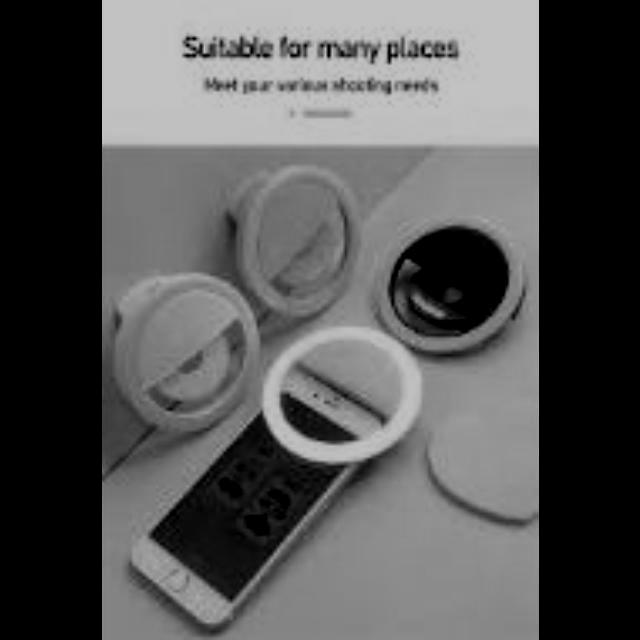fake: (140, 346, 389, 637)
